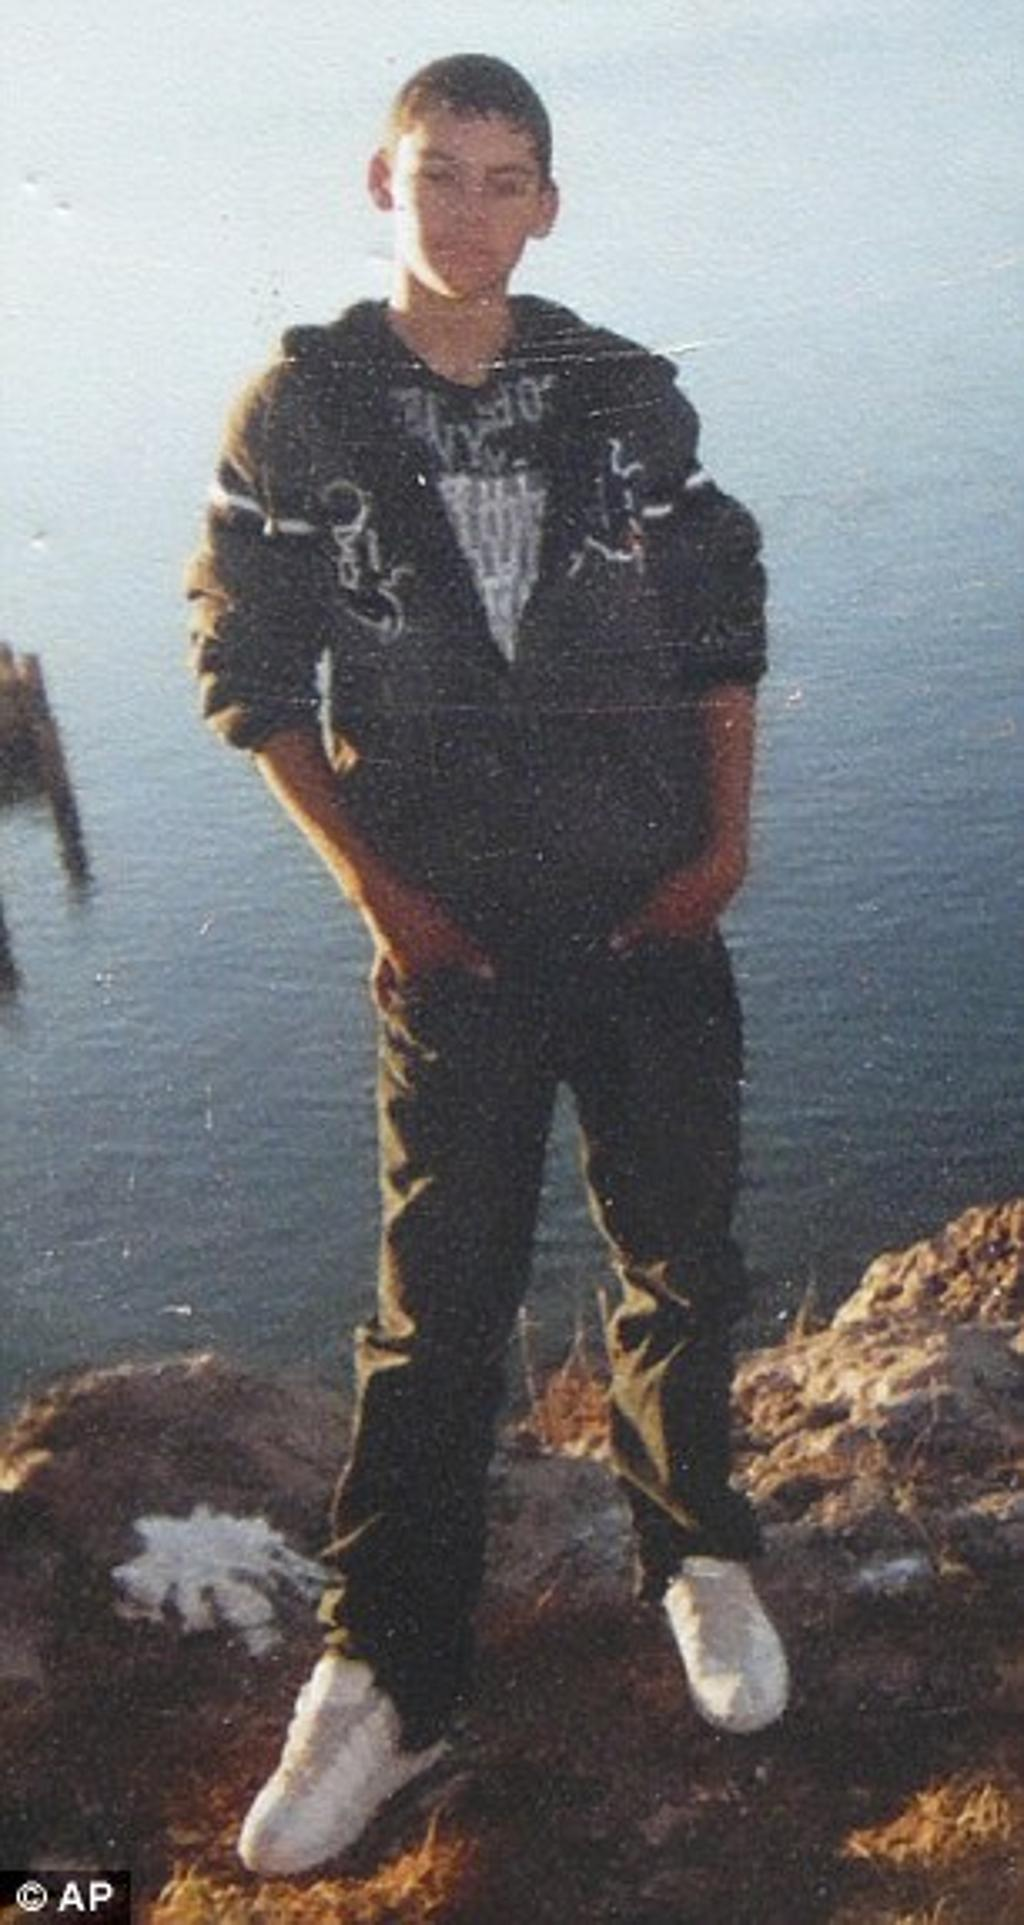face: (399, 128, 542, 297)
